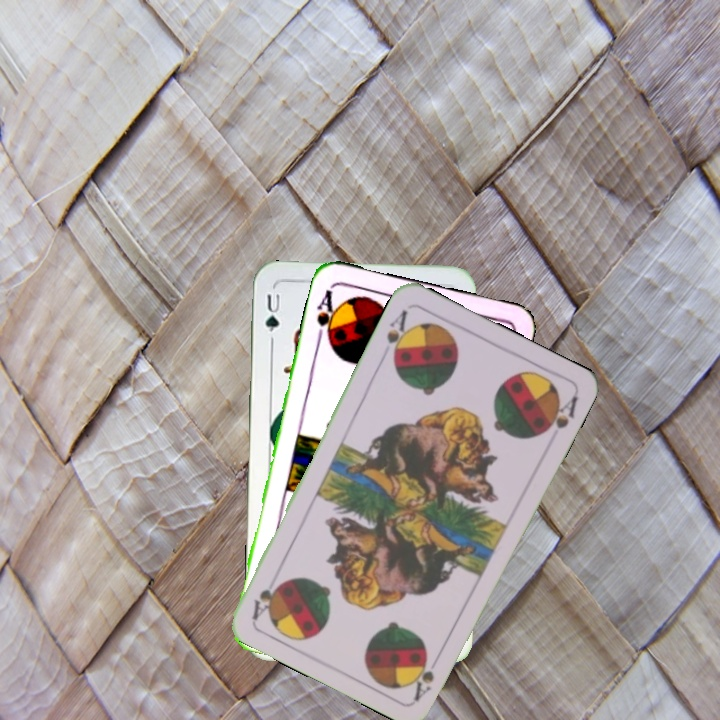GU: (261, 287, 283, 344)
SA: (410, 648, 445, 703), (382, 306, 414, 364), (312, 285, 341, 345)
